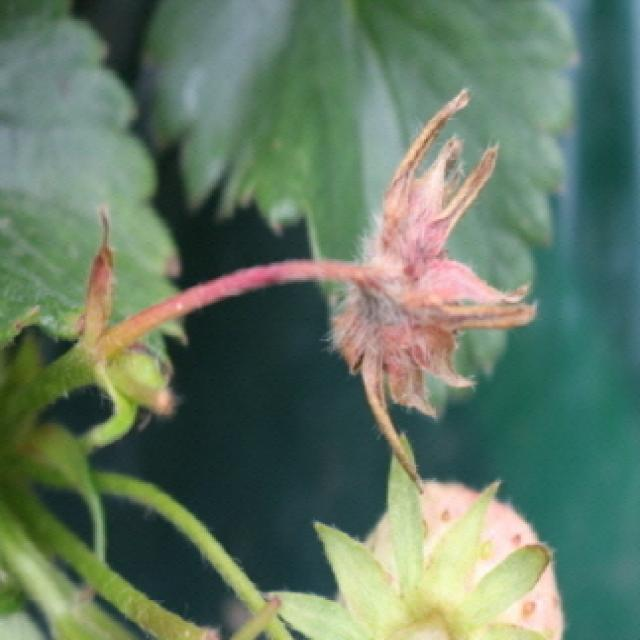Gray Mold: (252, 85, 538, 496)
